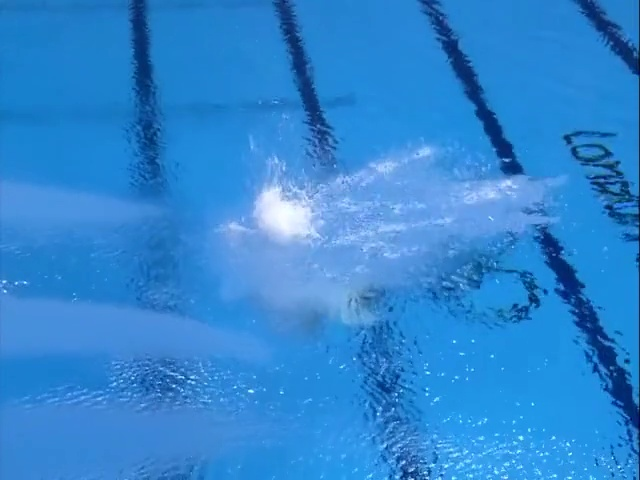splash: (246, 169, 333, 249), (450, 175, 526, 205)
